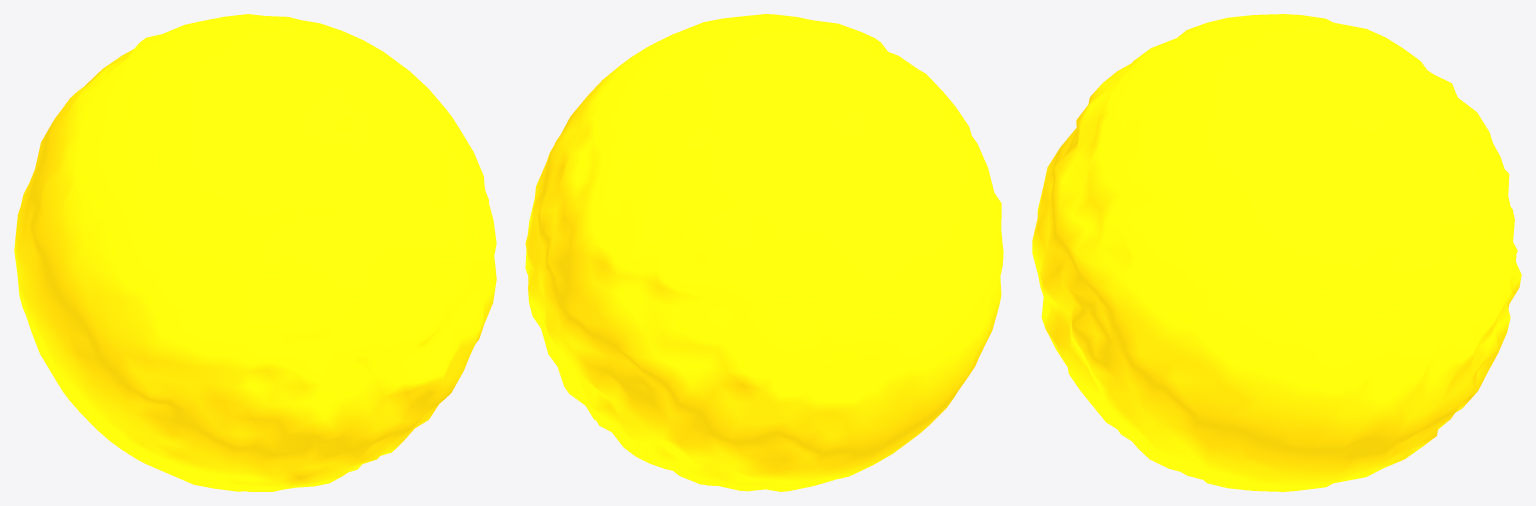
3 views of the same model, side by side, from view 1: azimuth 30°, elevation 25°; view 2: azimuth 150°, elevation 25°; view 3: azimuth 270°, elevation 25° (orthographic).
Parts seen in each view (by area): view 1: GeoSphere002; view 2: GeoSphere002; view 3: GeoSphere002.
Part boxes in pixels (left/top/right/bottom): GeoSphere002: left=14, top=14, right=496, bottom=491; GeoSphere002: left=525, top=14, right=1003, bottom=491; GeoSphere002: left=1032, top=14, right=1521, bottom=491.
Size of the model in its own units: 2.13 by 2.13 by 2.18.
